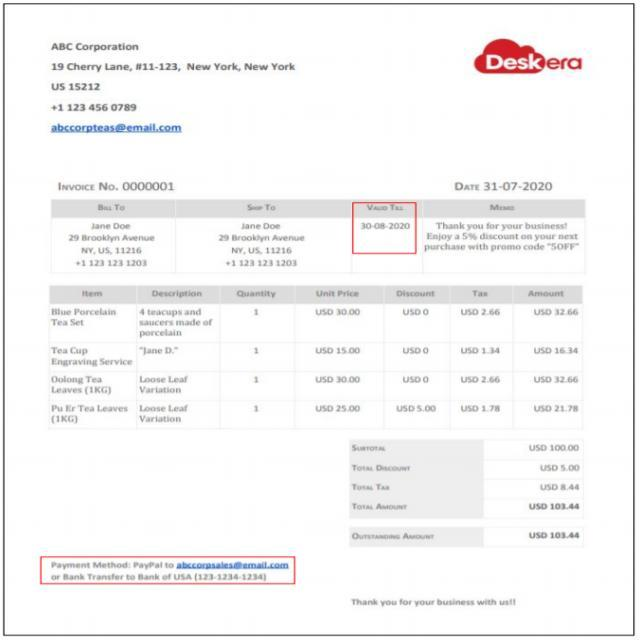customer_address: (214, 231, 308, 254), (68, 232, 157, 253)
customer_name: (71, 220, 159, 232), (223, 219, 290, 233)
invoice_date: (480, 177, 557, 194)
invoice_number: (120, 178, 175, 194)
invoice_subtotal: (522, 436, 586, 456)
invoice_total: (518, 524, 587, 546), (525, 498, 584, 515)
item_description: (136, 303, 216, 428)
item_quantity: (238, 303, 272, 424)
item_total_price: (524, 304, 581, 420)
item_unit_price: (308, 302, 370, 419)
supplier_address: (46, 57, 300, 96)
supplier_name: (45, 39, 143, 54)
tax_amount: (535, 480, 584, 495)
